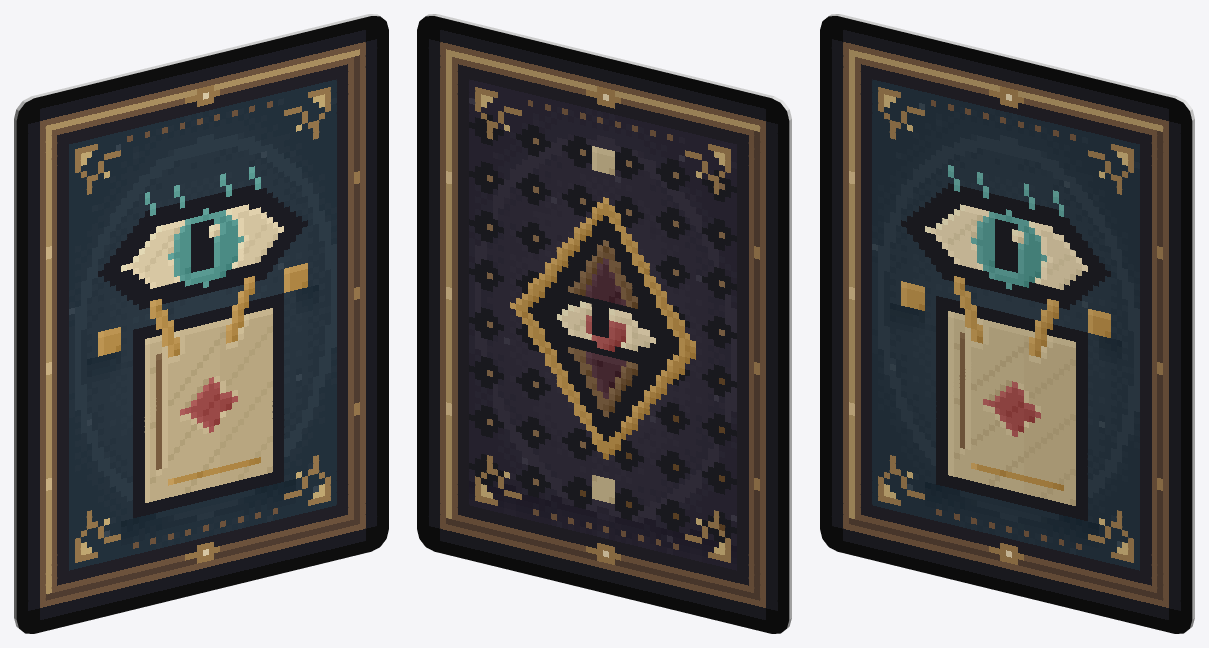
The model's file is magic_card.glb.
The picture shows the model from 3 angles, left to right: view 1: azimuth 30°, elevation 25°; view 2: azimuth 150°, elevation 25°; view 3: azimuth 330°, elevation 25°; orthographic projection.
Visible parts, largest first — view 1: prop_magic_card; view 2: prop_magic_card; view 3: prop_magic_card.
Boxes of the visible parts, x1=… form: prop_magic_card: x1=14, y1=14, x2=388, y2=633; prop_magic_card: x1=417, y1=14, x2=791, y2=633; prop_magic_card: x1=820, y1=14, x2=1194, y2=633.
Bounding box in the file's own units: 0.064 × 0.088 × 0.0008.
Materials: 3 (2 with a texture image).
